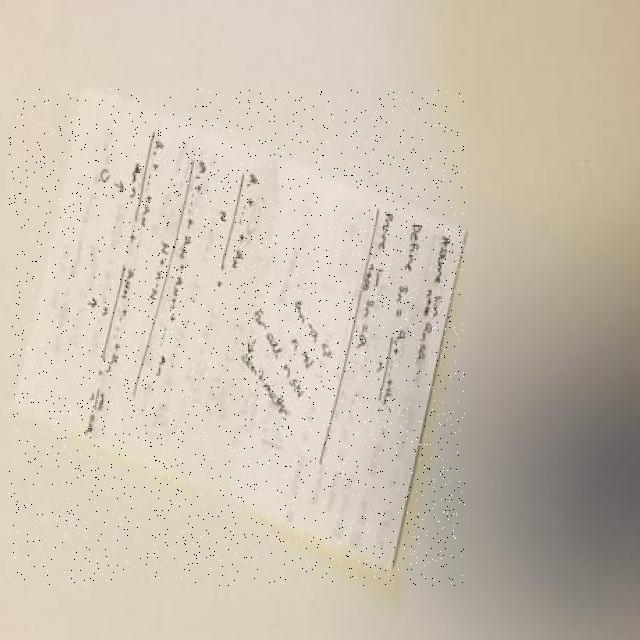paper: (10, 89, 465, 586)
